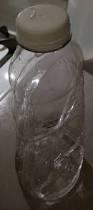Plastic bottle: (9, 2, 86, 202)
